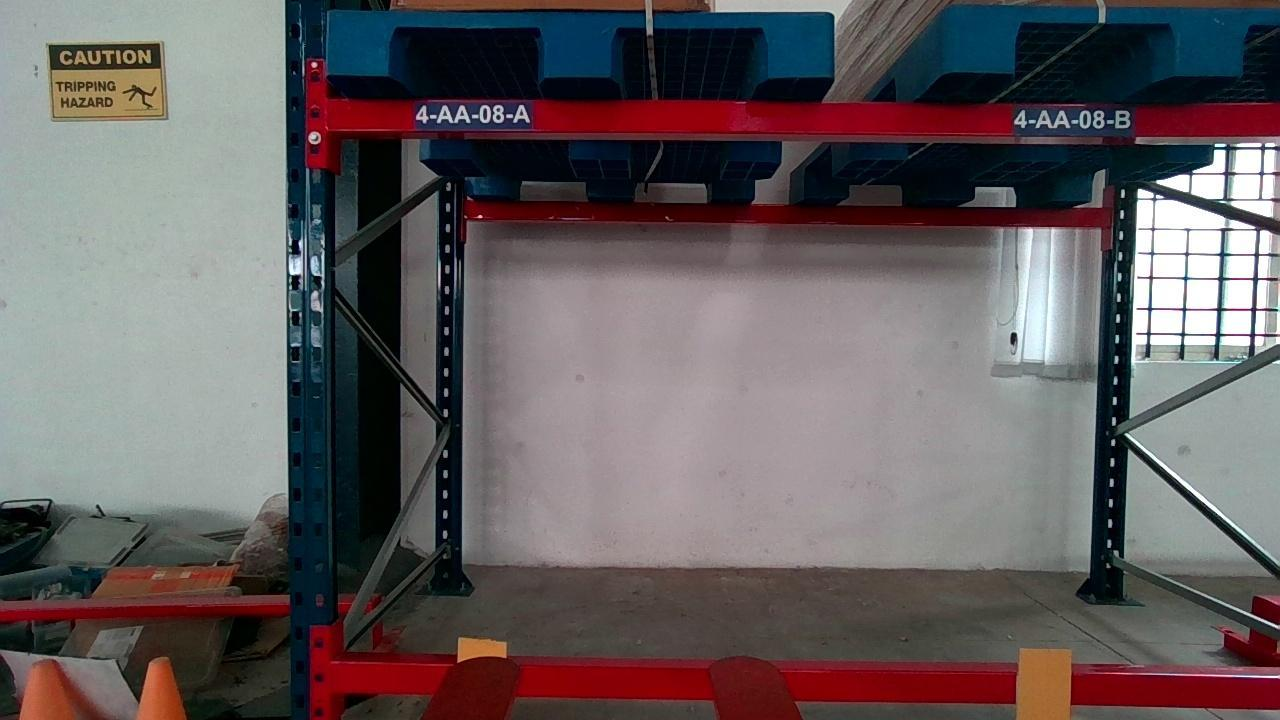h_rack: (324, 659, 1280, 711), (326, 97, 1280, 136)
orange_strip: (1019, 649, 1072, 720)
small_pallet: (324, 12, 833, 77), (954, 5, 1280, 74)
